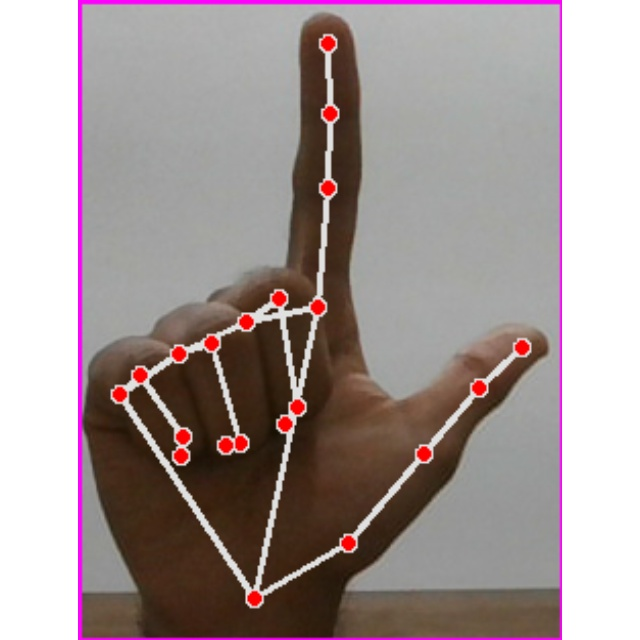L: (78, 0, 562, 640)
